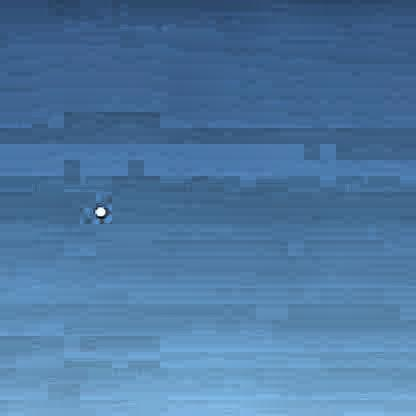golfball: (93, 204, 105, 216)
